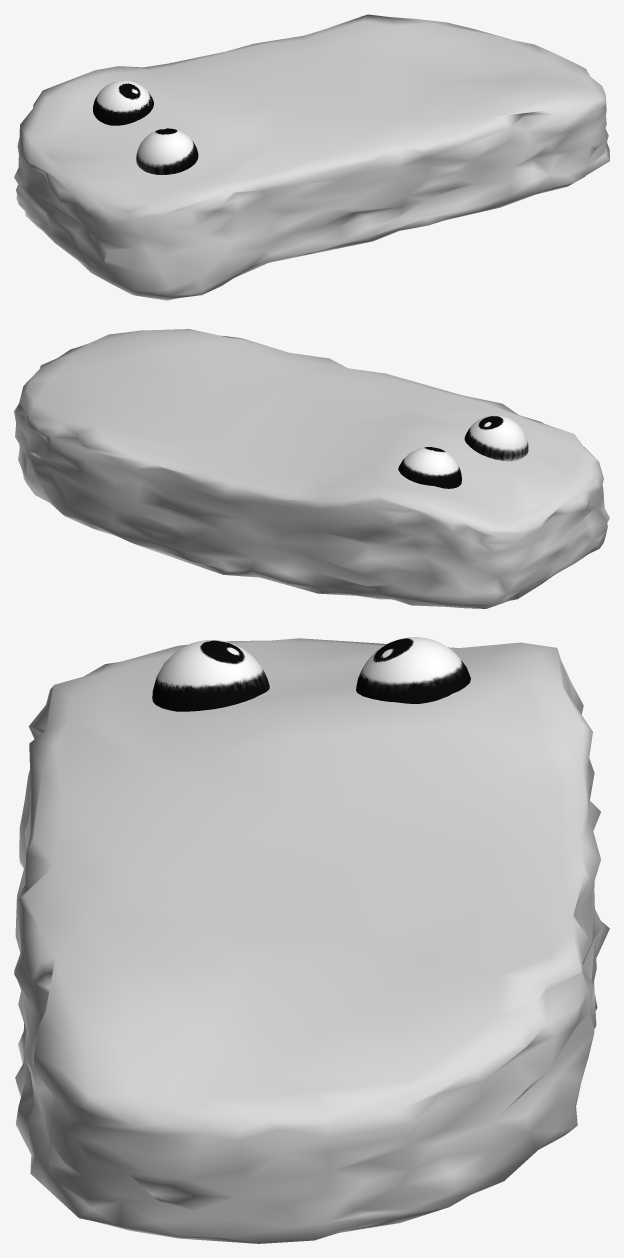
The model's file is Nugget 1.fbx.
The picture shows the model from 3 angles, top to bottom: view 1: azimuth 30°, elevation 25°; view 2: azimuth 150°, elevation 25°; view 3: azimuth 270°, elevation 25°; orthographic projection. The views are drawn at different scales.
Parts seen in each view (by area): view 1: Cube, Sphere.002, Sphere.001; view 2: Cube, Sphere.002, Sphere.001; view 3: Cube, Sphere.002, Sphere.001.
Part boxes in pixels (left/top/right/bottom): Cube: left=14, top=14, right=609, bottom=300; Sphere.002: left=136, top=128, right=198, bottom=174; Sphere.001: left=93, top=80, right=153, bottom=125; Cube: left=14, top=329, right=609, bottom=608; Sphere.002: left=464, top=415, right=528, bottom=461; Sphere.001: left=398, top=447, right=461, bottom=488; Cube: left=14, top=638, right=609, bottom=1243; Sphere.002: left=152, top=640, right=269, bottom=711; Sphere.001: left=356, top=637, right=470, bottom=703.
Size of the model in its own units: 410 by 102 by 212.
